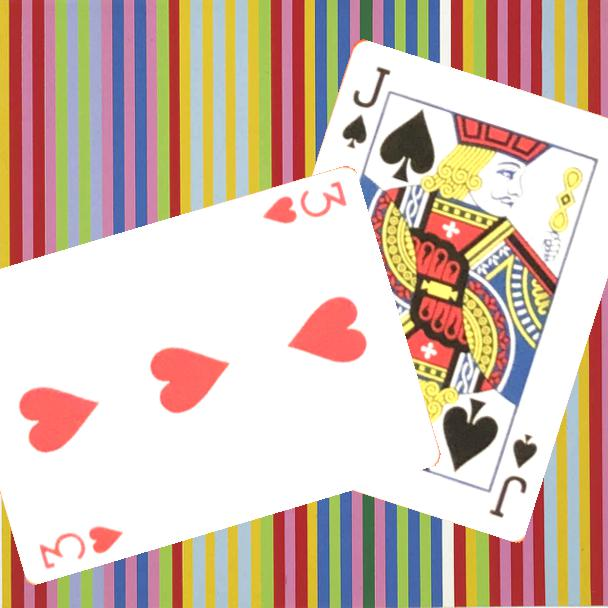h03: (35, 522, 126, 573), (258, 178, 350, 228)
s11: (337, 62, 394, 151), (485, 429, 540, 521)
